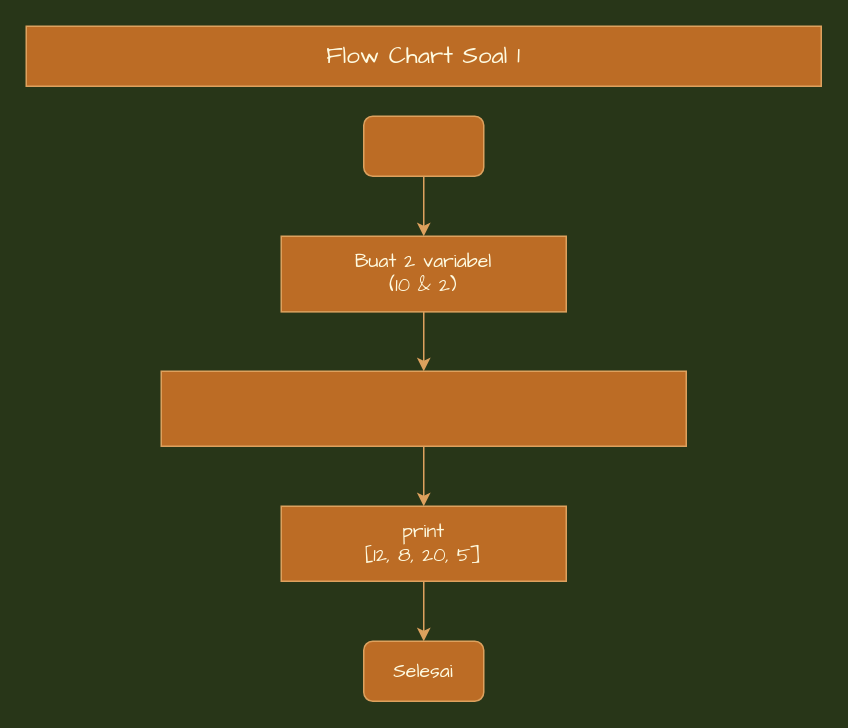
Some shapes in this 848 by 728 pixel diagram are drawn without their labels. Each missing label, with the centre of its shape:
Buat variabel list untuk semua operasi arimatika. (+ - x /): (423,408)
Mulai: (423,145)
